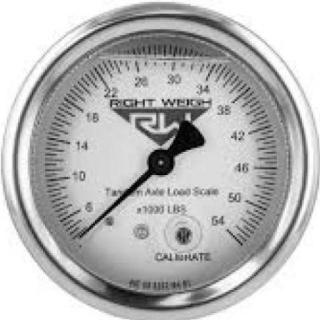gauge: (0, 0, 320, 320), (220, 216, 248, 254), (147, 147, 176, 177), (70, 221, 96, 249), (76, 222, 94, 243)
